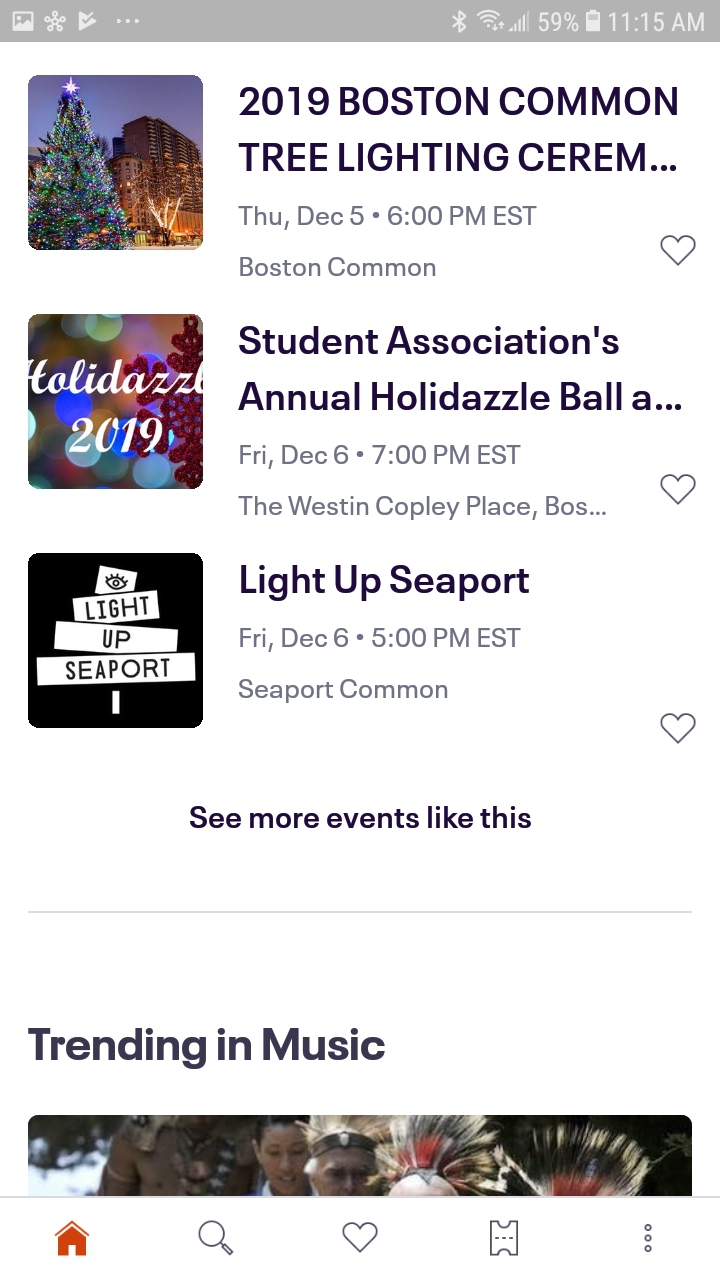Icon: (198, 1219, 235, 1256), (55, 1220, 91, 1257), (659, 234, 697, 267), (659, 713, 697, 746), (660, 473, 697, 506), (342, 1221, 379, 1253), (489, 1220, 519, 1257), (643, 1223, 653, 1253)
Image: (28, 1114, 693, 1197), (29, 75, 205, 252), (28, 314, 204, 490), (28, 553, 204, 729)
Text: (238, 326, 682, 413), (238, 87, 679, 173), (238, 444, 606, 522), (239, 626, 521, 704), (239, 205, 538, 277), (28, 1027, 386, 1070), (241, 564, 531, 602), (190, 805, 532, 829)
UpperTaskBar: (1, 1, 720, 43)
